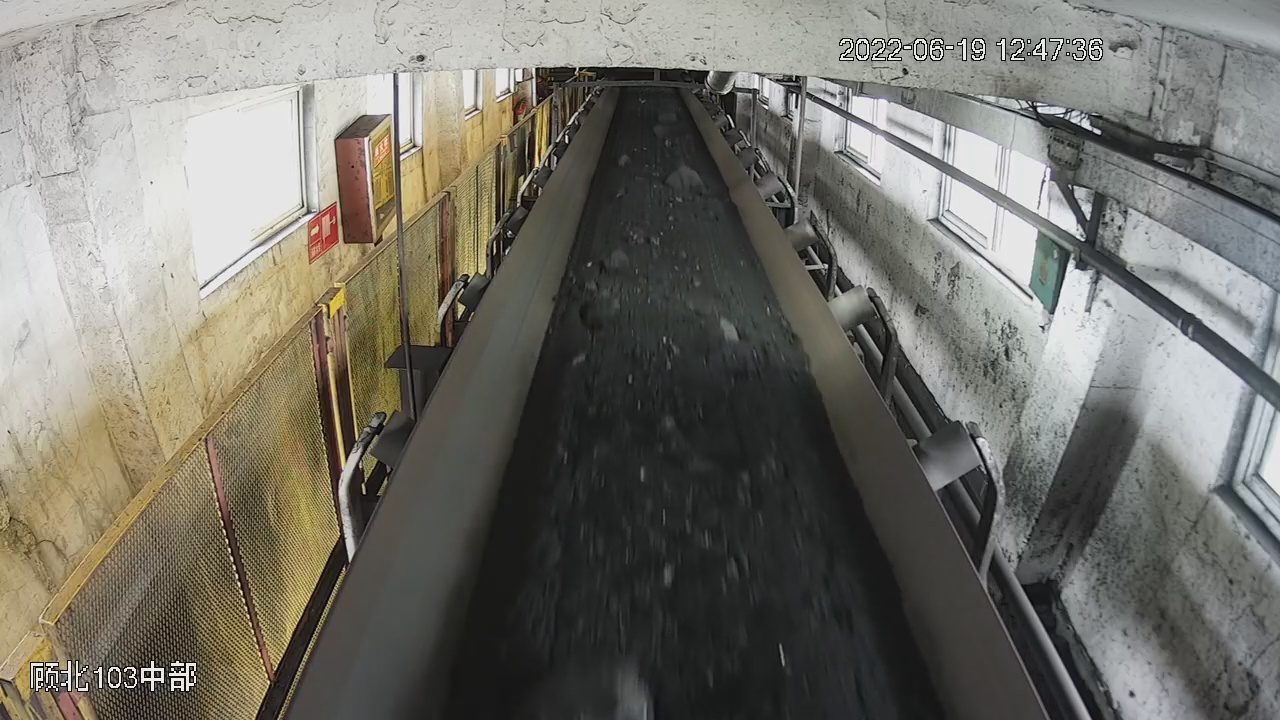gangue: (518, 650, 651, 720), (584, 289, 622, 329), (667, 166, 708, 188), (717, 315, 741, 344), (602, 252, 630, 272), (652, 112, 678, 131)
